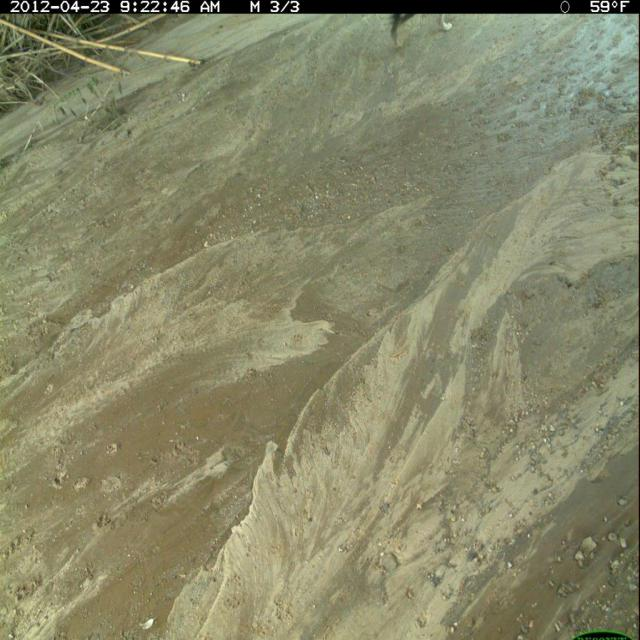dog: (384, 9, 463, 56)
